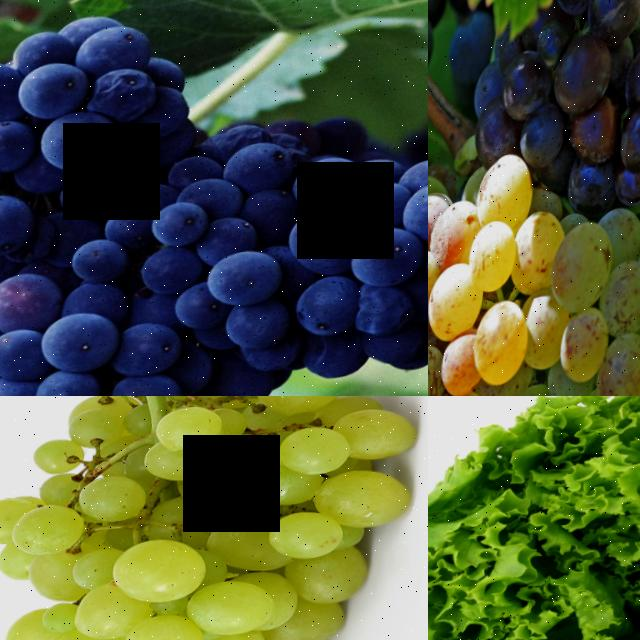grapes: (0, 19, 428, 396), (0, 396, 428, 640), (428, 149, 640, 396), (477, 0, 640, 215)
lettuce: (428, 396, 640, 640)
